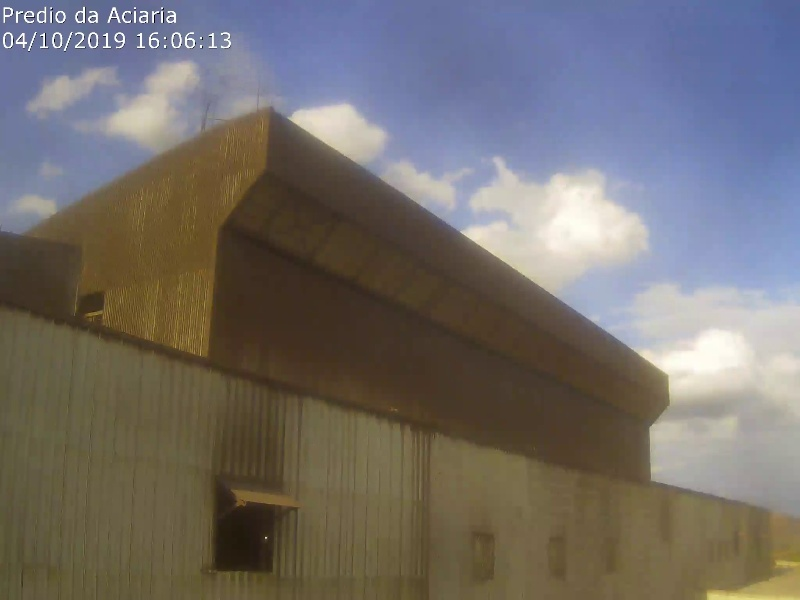bom: (281, 41, 726, 420)
